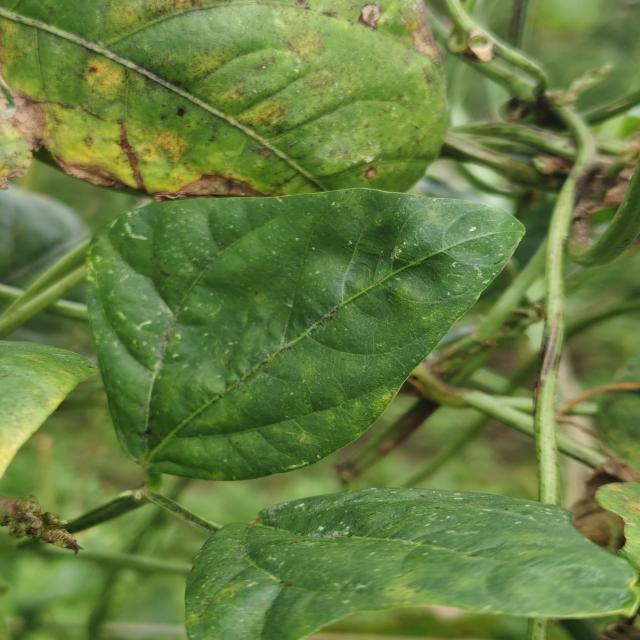sitaw-aphid-high: (88, 189, 524, 474), (142, 488, 634, 640)
sitaw-aphid-low: (1, 0, 448, 200)
